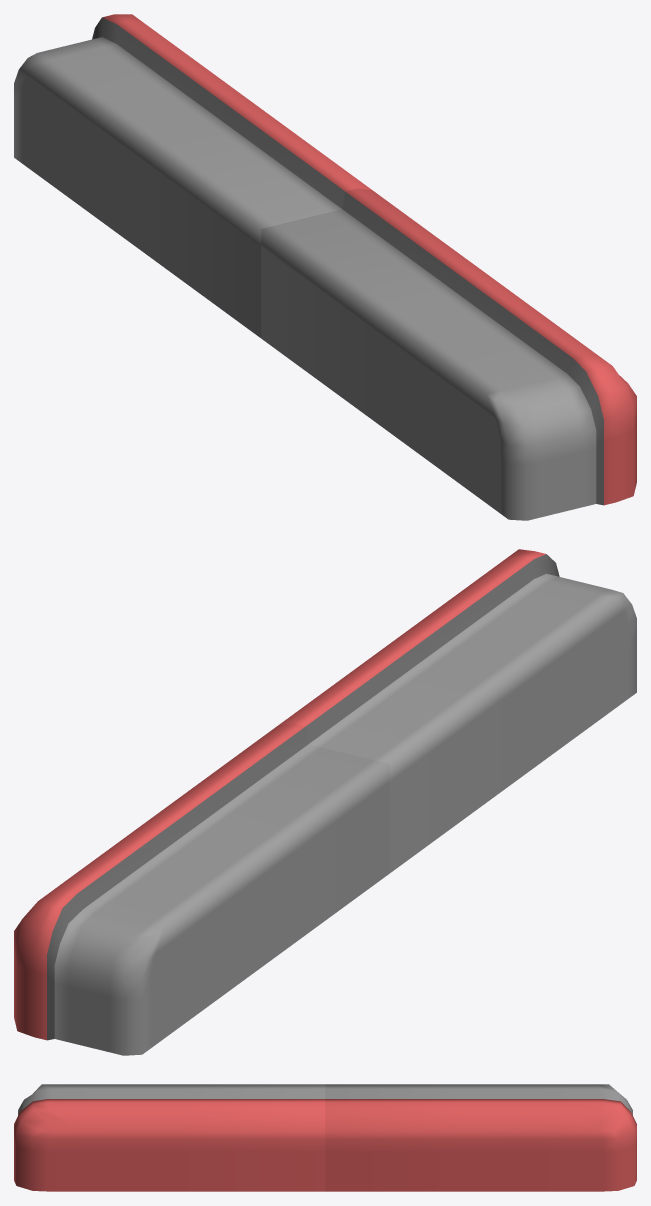
The model's file is Paddle.FBX.
3 views of the same model, one above another, from view 1: azimuth 30°, elevation 25°; view 2: azimuth 150°, elevation 25°; view 3: azimuth 270°, elevation 25° (orthographic). The views are drawn at different scales.
Visible parts, largest first — view 1: Base; view 2: Base; view 3: Base.
Part boxes in pixels (x1,y1,x2,y2): Base: (14,14,636,520); Base: (14,549,636,1055); Base: (14,1084,636,1191).
Bounding box in the file's own units: 11.12 × 9.86 × 72.32.
1 material, 1 textured.
